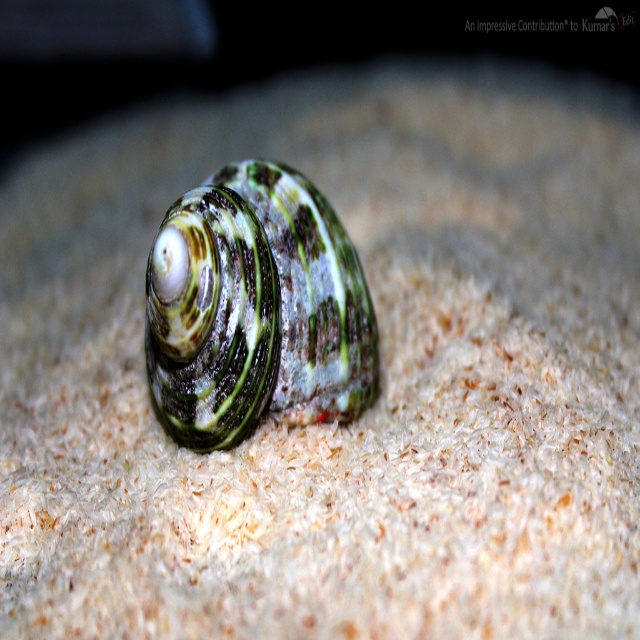Snail: (142, 151, 382, 454)
